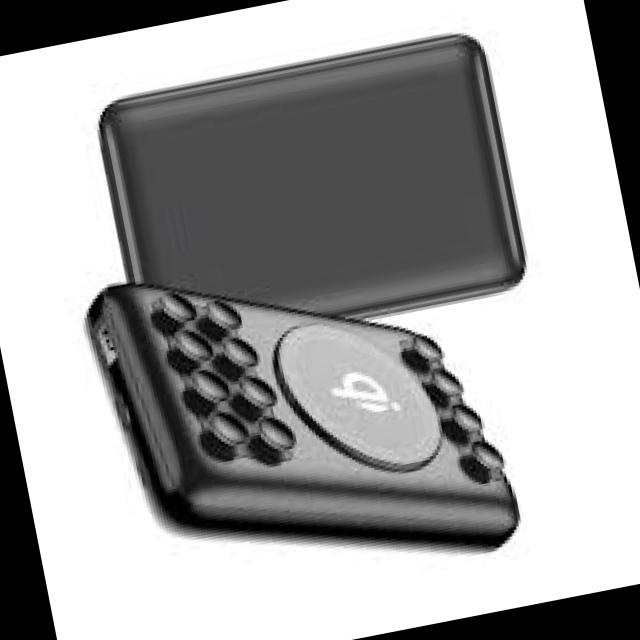portable-charger: (76, 220, 532, 621), (85, 22, 540, 372)
